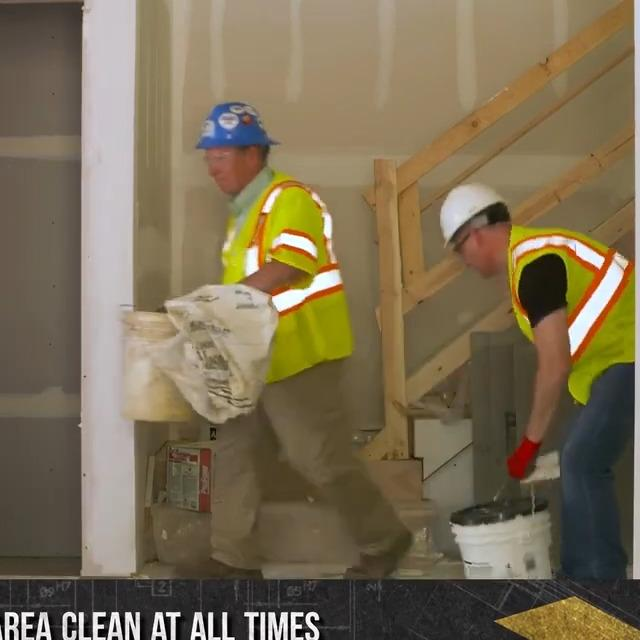Gloves: (506, 431, 544, 486)
Hardhat: (441, 181, 509, 251), (193, 100, 280, 150)
NO-Mask: (473, 233, 501, 278), (213, 163, 251, 194)
Person: (175, 99, 416, 577), (441, 180, 634, 579)
Safety Vest: (222, 176, 353, 353), (513, 224, 636, 397)
